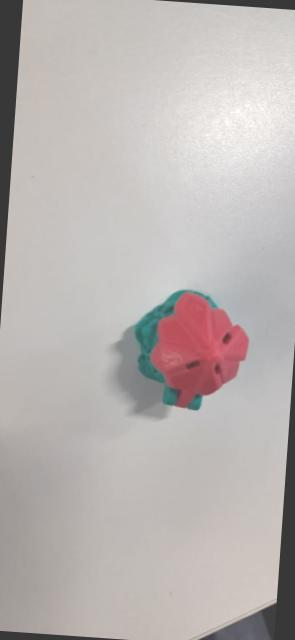House: (121, 278, 254, 412)
